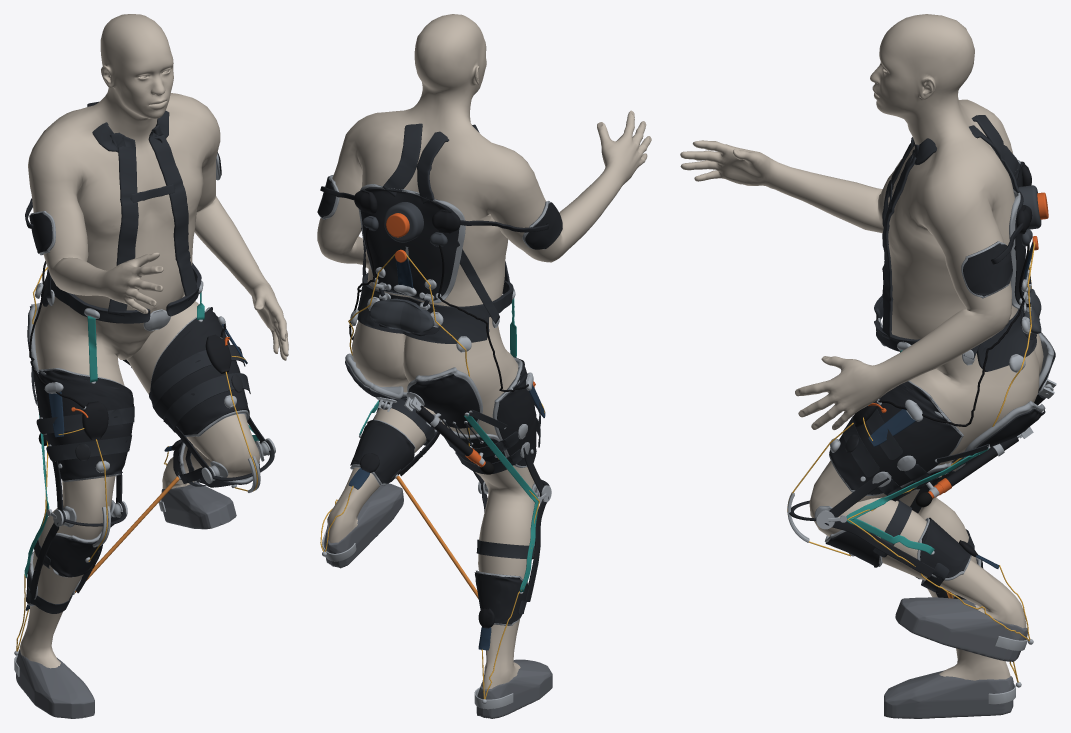
Rendered from sitka_run.glb.
3 views of the same model, side by side, from view 1: azimuth 30°, elevation 25°; view 2: azimuth 150°, elevation 25°; view 3: azimuth 270°, elevation 25° (orthographic). The views are drawn at different scales.
Visible parts, largest first — view 1: body_run, thigh_shell_r, thigh_shell_l, shoe_r, harness_r, harness_l, shoe_l, hip_belt, ptb_shell_r, thigh_strap1_l, thigh_strap0_l, thigh_strap1_r (+10 smaller); view 2: body_run, back_panel, hip_belt, shoe_l, shoe_r, seat_cup_r, calf_cuff_l, thigh_shell_r, calf_cuff_r, p1_battery, harness_l, hamstring_band_r (+15 smaller); view 3: body_run, thigh_shell_l, shoe_l, shoe_r, hip_belt, harness_l, m5_armcuff_l, calf_cuff_l, hamstring_band_l, harness_r, shin_arm_lat_l, thigh_strap1_l (+11 smaller).
Part boxes in pixels (x1,y1,x2,y2): body_run: (19, 14, 288, 668); thigh_shell_r: (33, 370, 133, 480); thigh_shell_l: (150, 307, 249, 434); shoe_r: (16, 649, 94, 718); harness_r: (87, 101, 138, 316); harness_l: (148, 110, 197, 300); shoe_l: (161, 481, 236, 529); hip_belt: (41, 262, 201, 323); ptb_shell_r: (46, 535, 100, 577); thigh_strap1_l: (163, 373, 250, 432); thigh_strap0_l: (149, 345, 245, 409); thigh_strap1_r: (46, 435, 131, 461); body_run: (317, 14, 651, 689); back_panel: (360, 187, 459, 301); hip_belt: (357, 273, 513, 343); shoe_l: (324, 483, 403, 568); shoe_r: (476, 659, 552, 718); seat_cup_r: (408, 374, 479, 428); calf_cuff_l: (350, 420, 414, 483); thigh_shell_r: (497, 357, 536, 465); calf_cuff_r: (474, 572, 528, 624); p1_battery: (370, 298, 434, 333); harness_l: (382, 123, 422, 196); hamstring_band_r: (464, 414, 538, 592); body_run: (680, 14, 1043, 680); thigh_shell_l: (829, 381, 961, 494); shoe_l: (895, 597, 1027, 661); shoe_r: (884, 670, 1013, 718); hip_belt: (874, 295, 1036, 371); harness_l: (882, 125, 1020, 339); m5_armcuff_l: (963, 243, 1012, 296); calf_cuff_l: (920, 517, 970, 577); hamstring_band_l: (846, 448, 988, 554); harness_r: (882, 115, 1020, 297); shin_arm_lat_l: (824, 517, 934, 577); thigh_strap1_l: (843, 415, 910, 501).
Bounding box in the file's own units: 0.6228 × 1.82 × 0.8469.
